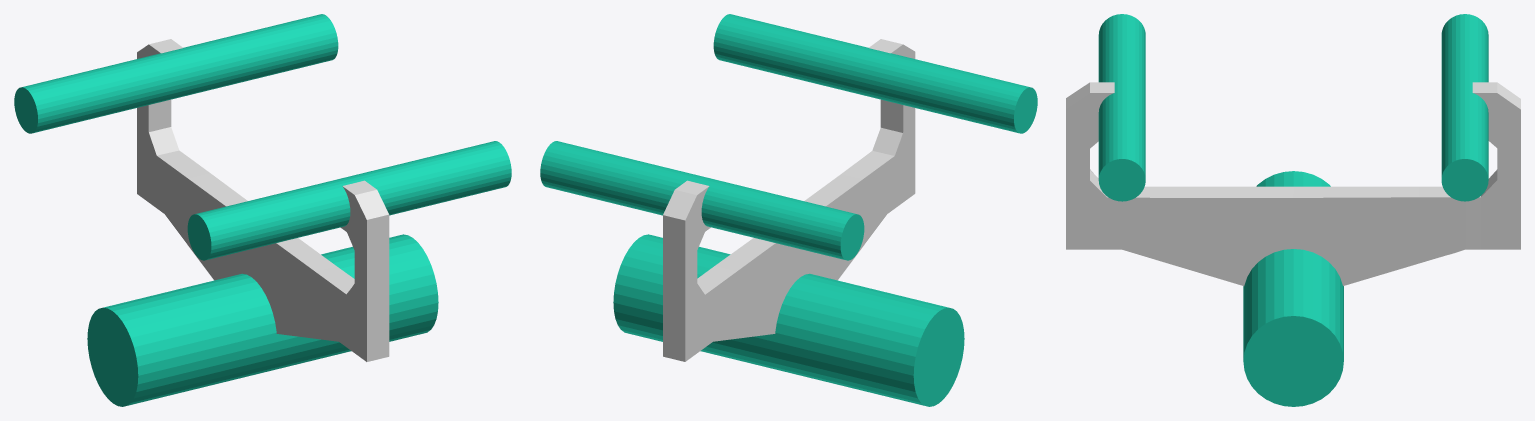
The model's file is Rollercoaster track v0.6.fbx.
3 renders of one model, left to right at view 1: azimuth 30°, elevation 25°; view 2: azimuth 150°, elevation 25°; view 3: azimuth 270°, elevation 25°, orthographic.
Parts seen in each view (by area): view 1: Rail holder; view 2: Rail holder; view 3: Rail holder.
Boxes of the visible parts, x1,y1,x2,y2 form: Rail holder: [14, 14, 511, 406]; Rail holder: [540, 14, 1037, 406]; Rail holder: [1066, 14, 1520, 406].
Size of the model in its own units: 400 by 319 by 531.
